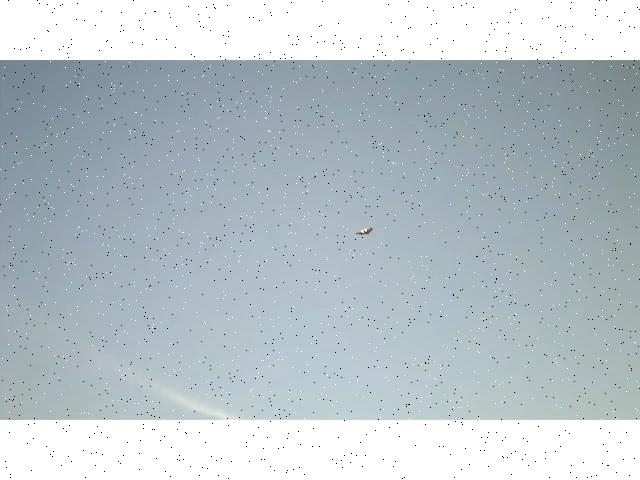Anti-Drone: (356, 227, 372, 235)
